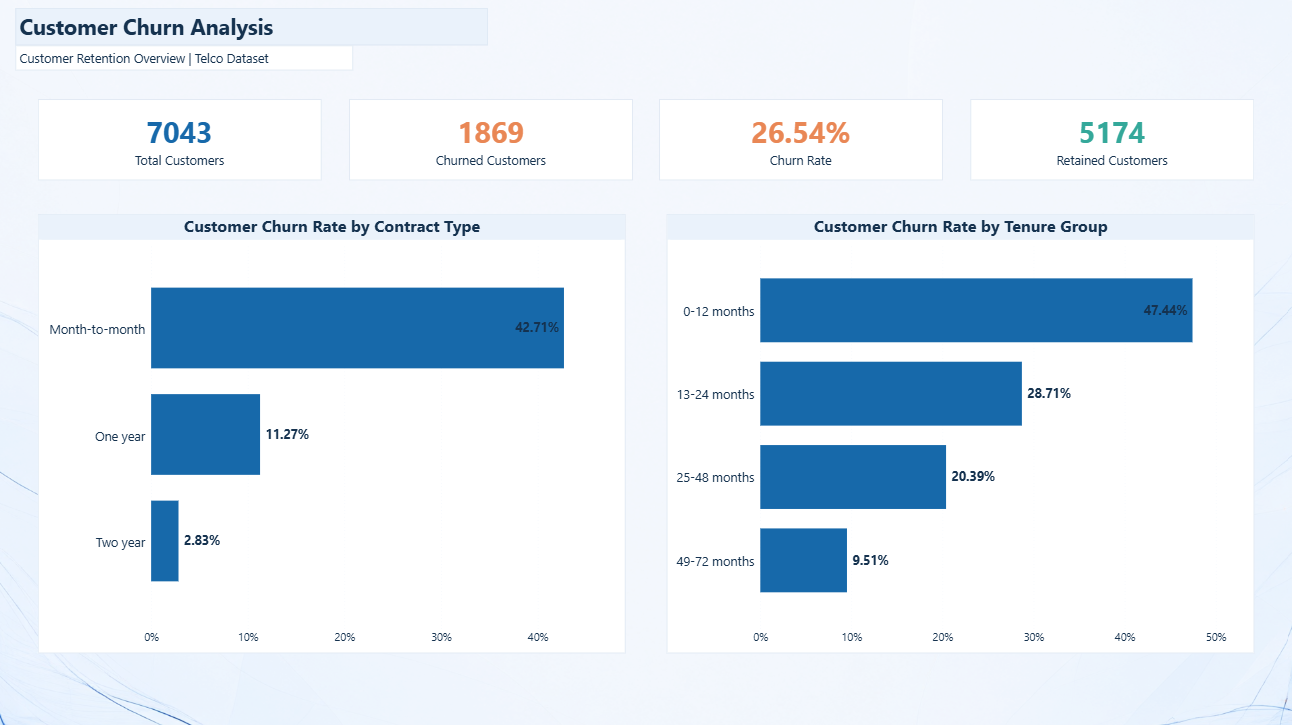

This screenshot's page, from the dashboard's own definition file:
{"tool":"powerbi","page":{"name":"Overview","canvas":[1920,1080],"ordinal":0},"visuals":[{"type":"card","fields":{"Values":["Telco-Customer-Churn-Fixed.Total Customers"]},"box":[60,150,420,120],"z":0},{"type":"card","fields":{"Values":["Telco-Customer-Churn-Fixed.Churned Customers"]},"box":[520,150,420,120],"z":1},{"type":"card","fields":{"Values":["Telco-Customer-Churn-Fixed.Churn Rate"]},"box":[980,150,420,120],"z":2},{"type":"card","fields":{"Values":["Telco-Customer-Churn-Fixed.Retained Customers"]},"box":[1440,150,420,120],"z":3},{"type":"clusteredBarChart","title":"Customer Churn Rate by Contract Type","fields":{"Category":["Telco-Customer-Churn-Fixed.Contract"],"Y":["Telco-Customer-Churn-Fixed.Churn Rate"]},"box":[60,320,870,650],"z":4},{"type":"clusteredBarChart","title":"Customer Churn Rate by Tenure Group","fields":{"Category":["Telco-Customer-Churn-Fixed.Tenure Group"],"Y":["Telco-Customer-Churn-Fixed.Churn Rate"]},"box":[990,320,870,650],"z":5},{"type":"textbox","title":"Customer Churn Analysis","box":[25,15,700,55],"z":6},{"type":"textbox","box":[26.8,70,500.2,37],"z":7}]}

Visuals, with their boxes in screenshot pixels (x1, y1, x2, y2), scaled from the page's 1920x1080 canvas onto the 1292x725 screenshot:
card - Telco-Customer-Churn-Fixed.Total Customers: [x1=40, y1=101, x2=323, y2=181]
card - Telco-Customer-Churn-Fixed.Churned Customers: [x1=350, y1=101, x2=633, y2=181]
card - Telco-Customer-Churn-Fixed.Churn Rate: [x1=659, y1=101, x2=942, y2=181]
card - Telco-Customer-Churn-Fixed.Retained Customers: [x1=969, y1=101, x2=1252, y2=181]
"Customer Churn Rate by Contract Type" clusteredBarChart: [x1=40, y1=215, x2=626, y2=651]
"Customer Churn Rate by Tenure Group" clusteredBarChart: [x1=666, y1=215, x2=1252, y2=651]
"Customer Churn Analysis" textbox: [x1=17, y1=10, x2=488, y2=47]
textbox: [x1=18, y1=47, x2=355, y2=72]
